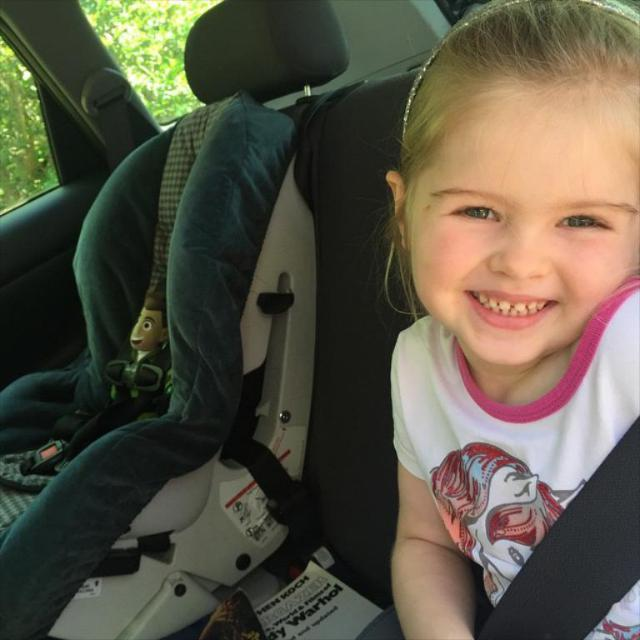SafeDriving: (542, 194, 628, 240), (435, 186, 514, 232)
Seatbelt: (477, 420, 639, 638), (218, 368, 314, 552)
